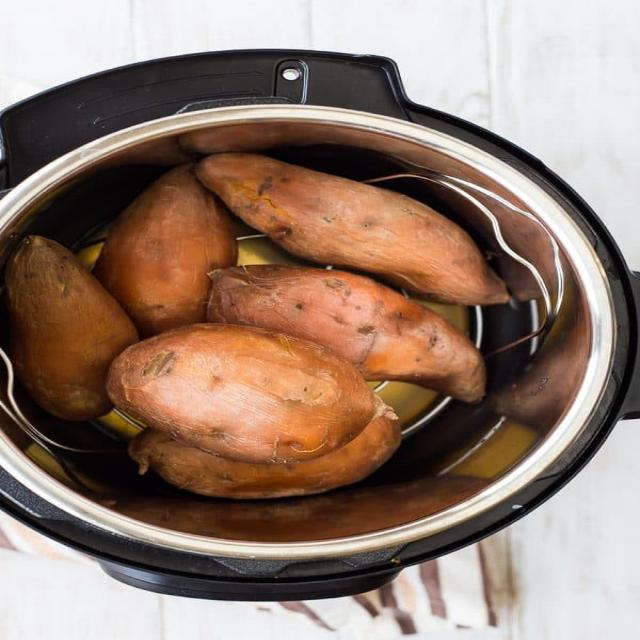sweet potato: (196, 154, 508, 304), (106, 324, 393, 463), (207, 265, 486, 402), (93, 164, 237, 337), (129, 416, 400, 499)
